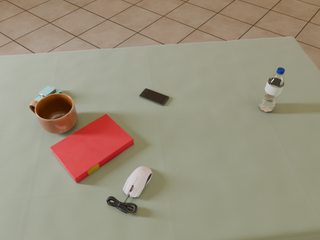book: (50, 114, 134, 183)
bottle: (259, 68, 285, 112)
cup: (29, 93, 77, 134)
mouse: (123, 166, 152, 198)
phone: (139, 89, 169, 105)
toy_car: (35, 86, 62, 101)
